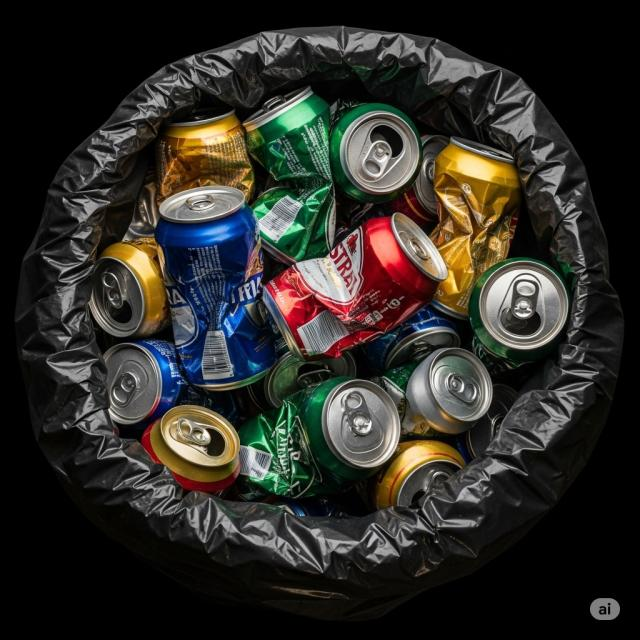aluminum: (266, 215, 442, 362), (156, 196, 278, 388), (304, 378, 400, 474), (478, 261, 569, 356), (334, 111, 420, 205), (150, 409, 243, 491)
